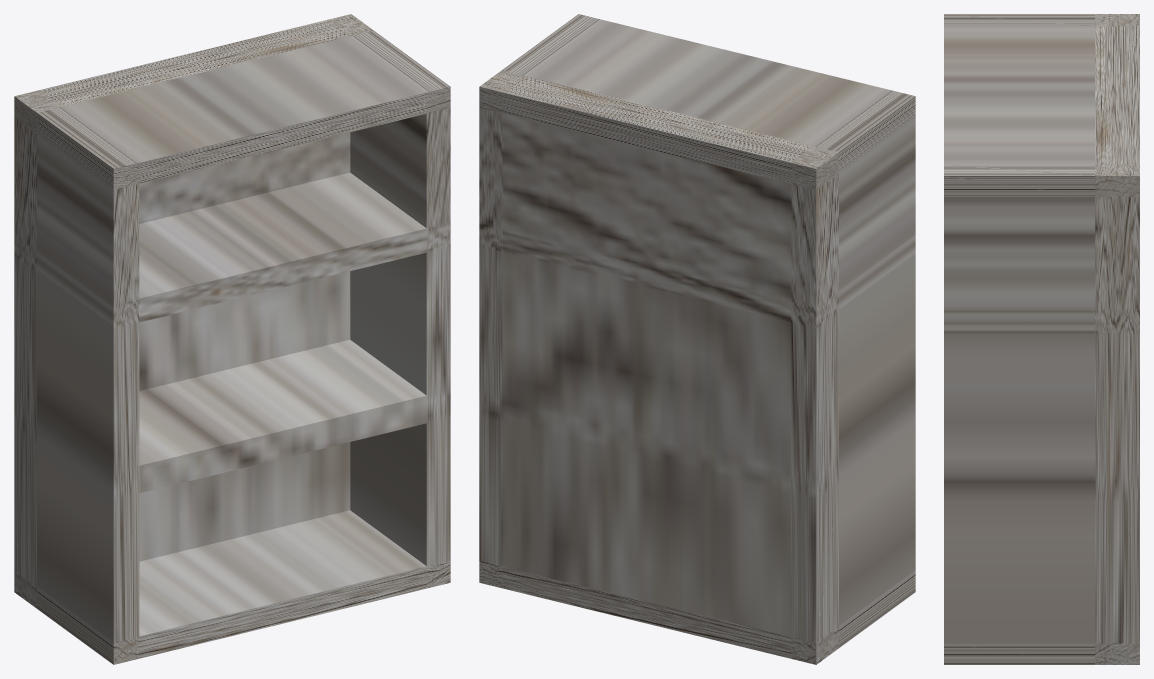
Rendered from Bookshelf.fbx.
3 views of the same model, side by side, from view 1: azimuth 30°, elevation 25°; view 2: azimuth 150°, elevation 25°; view 3: azimuth 270°, elevation 25° (orthographic).
Parts seen in each view (by area): view 1: pCube1; view 2: pCube1; view 3: pCube1.
Part boxes in pixels (x1=…): pCube1: x1=14, y1=14, x2=450, y2=664; pCube1: x1=479, y1=14, x2=915, y2=664; pCube1: x1=944, y1=14, x2=1139, y2=664.
Size of the model in its own units: 2.41 by 3.38 by 1.23.
1 material, 1 textured.
